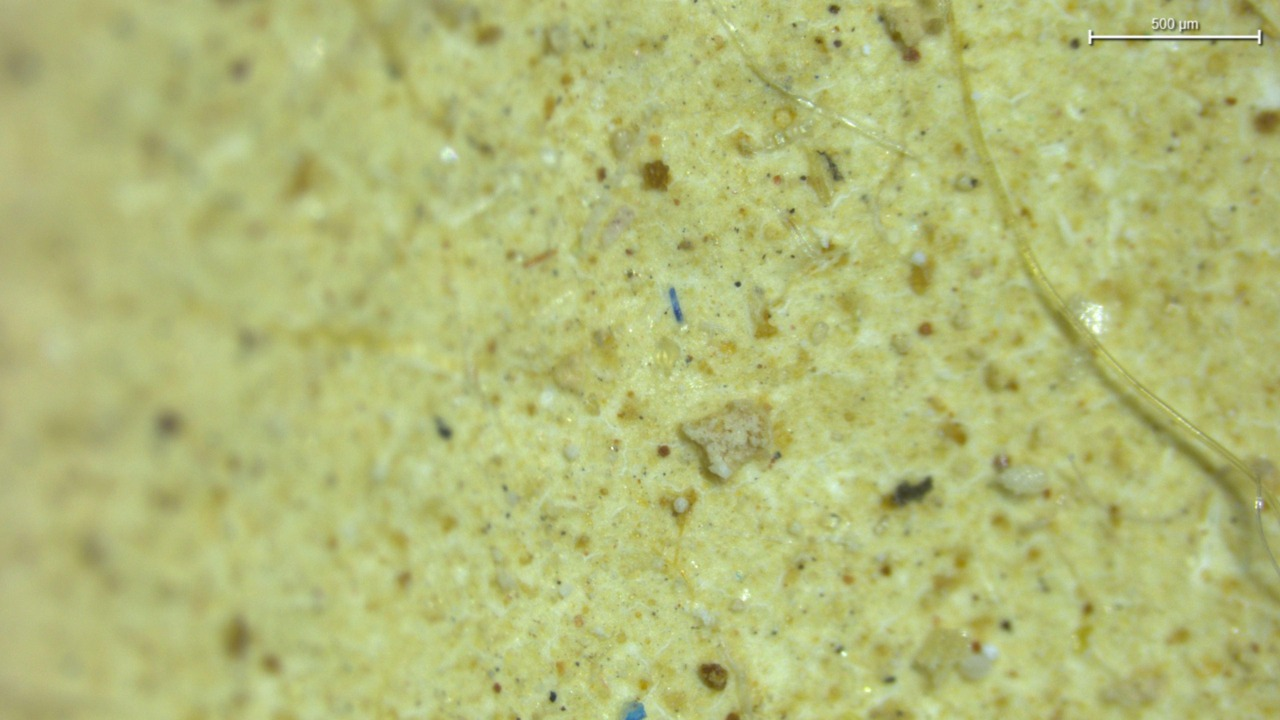microplastic_fragment: (682, 397, 775, 481), (1003, 469, 1047, 493)
